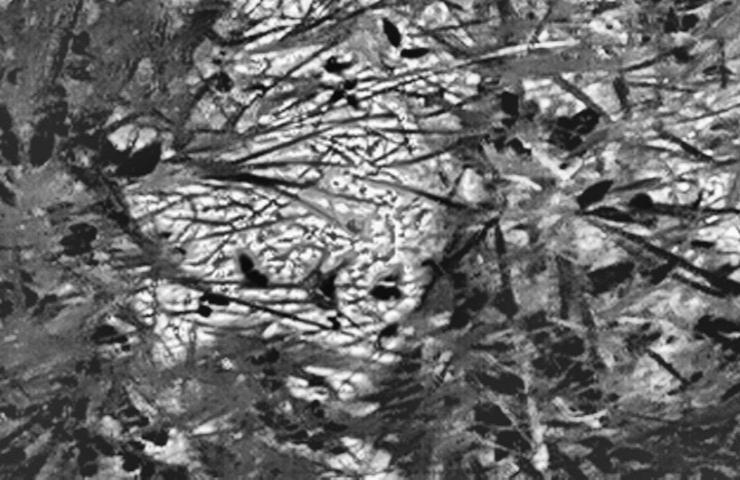landmines: (129, 5, 468, 381)
